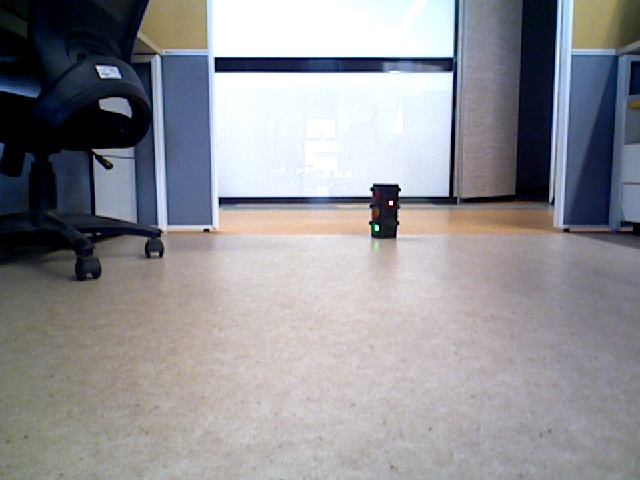green: (370, 185, 398, 236)
